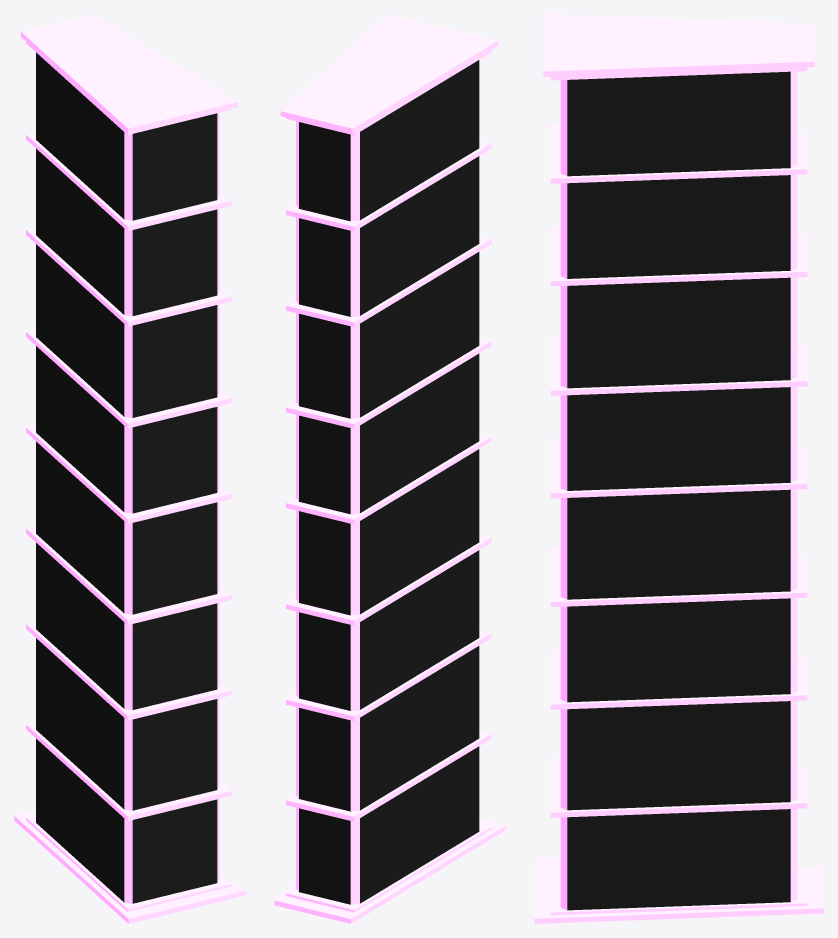
The picture shows the model from 3 angles, left to right: view 1: azimuth 30°, elevation 25°; view 2: azimuth 150°, elevation 25°; view 3: azimuth 270°, elevation 25°; orthographic projection. The views are drawn at different scales.
Parts seen in each view (by area): view 1: Box047; view 2: Box047; view 3: Box047.
Boxes of the visible parts, <box> form: Box047: <box>14,14,245,923</box>; Box047: <box>274,14,505,923</box>; Box047: <box>534,14,823,923</box>.
Size of the model in its own units: 231 by 1492 by 460.
